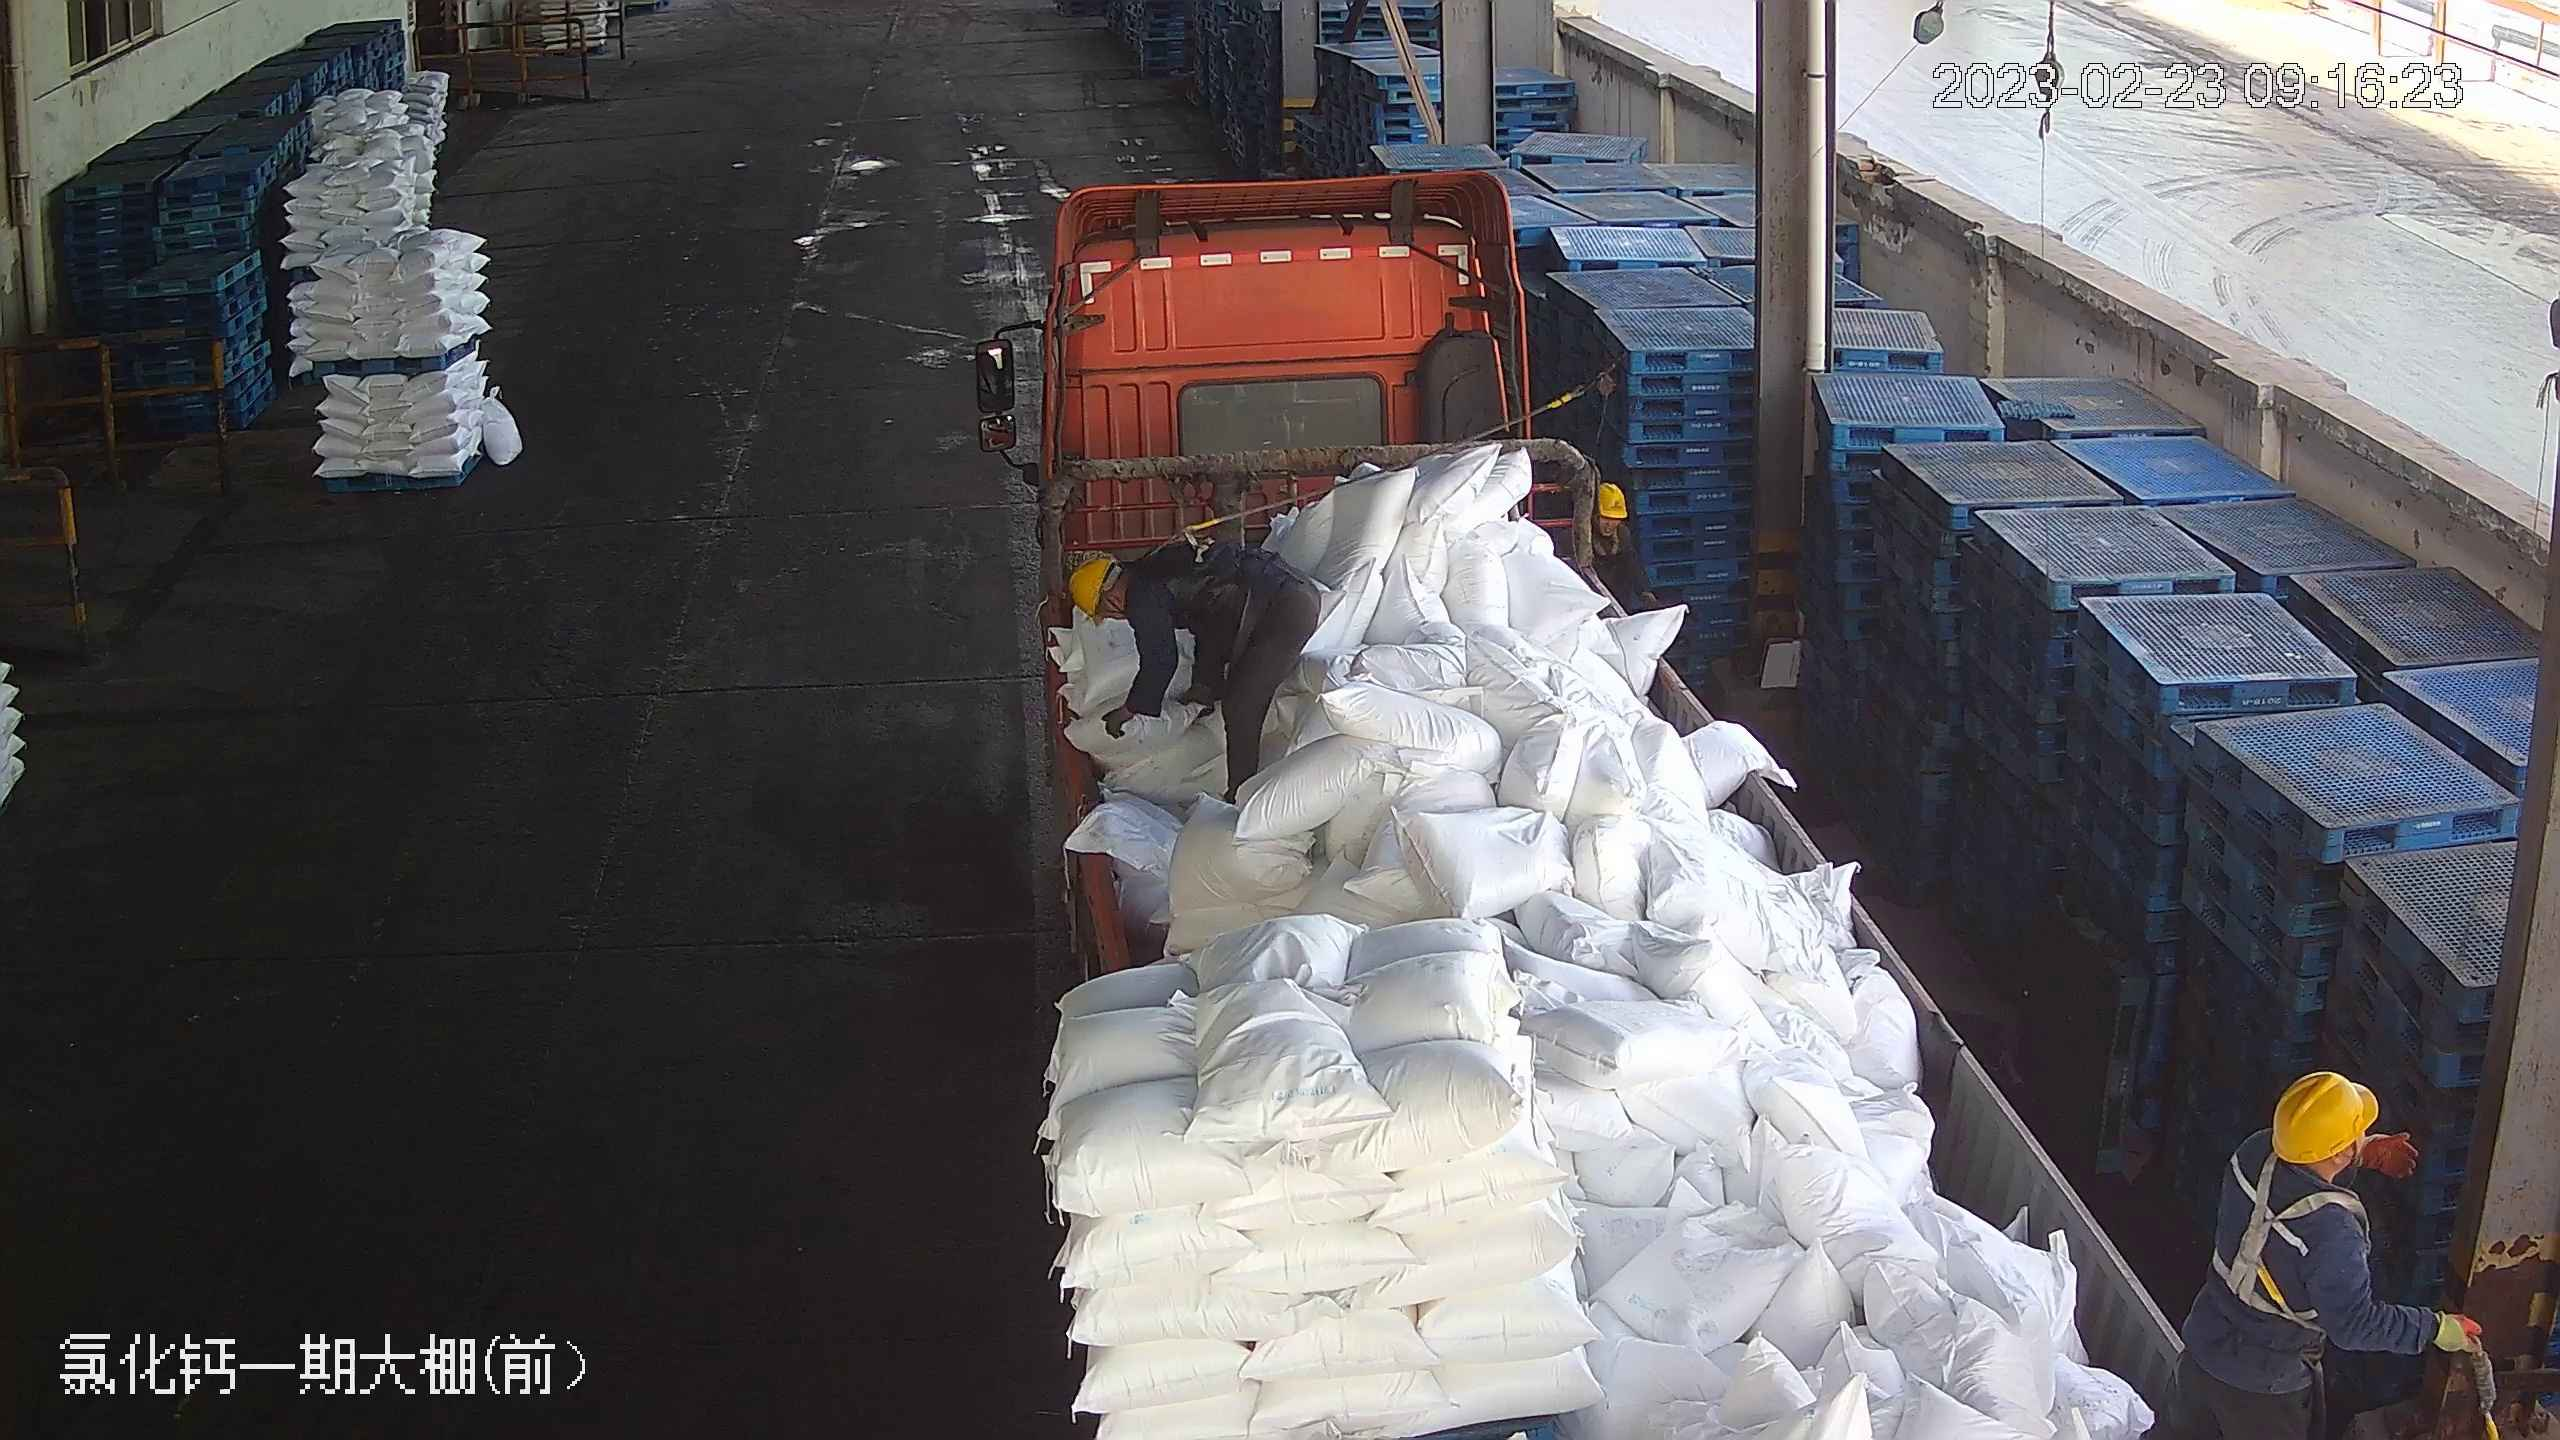belt: (2213, 1165, 2359, 1338), (1136, 513, 1251, 579), (1592, 523, 1626, 562)
head: (2206, 1066, 2422, 1278), (1063, 545, 1223, 669), (1577, 481, 1647, 567)
helmet: (2268, 1065, 2382, 1163), (1064, 552, 1119, 624), (1595, 478, 1632, 517)
people: (2184, 1062, 2490, 1440), (1065, 533, 1328, 820)
truck: (984, 164, 2228, 1434)
